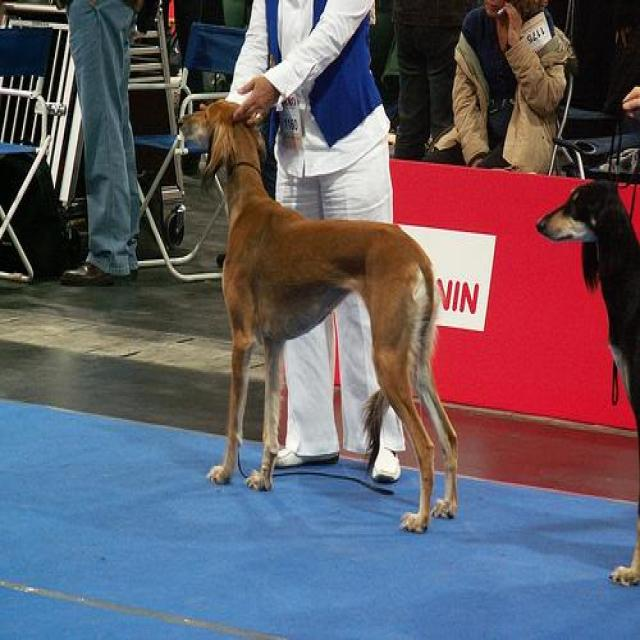saluki: (179, 100, 458, 532), (530, 172, 639, 592)
